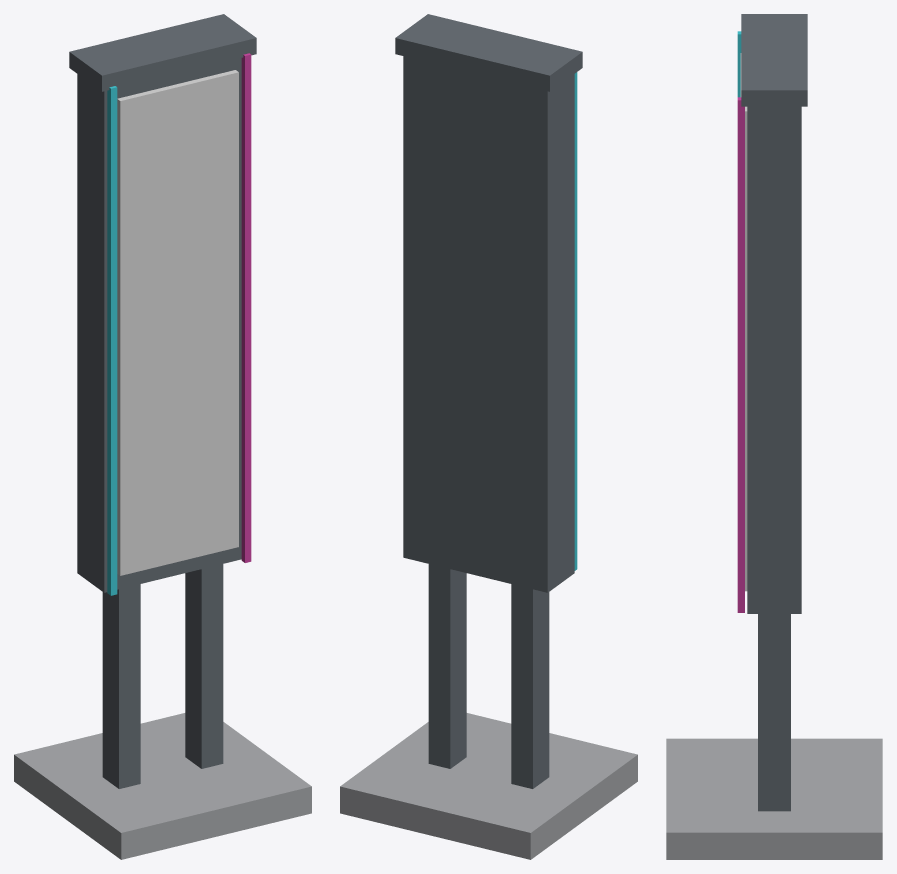
3 views of the same model, side by side, from view 1: azimuth 30°, elevation 25°; view 2: azimuth 150°, elevation 25°; view 3: azimuth 270°, elevation 25° (orthographic).
Visible parts, largest first — view 1: Visual; view 2: Visual; view 3: Visual.
Part boxes in pixels (x1,y1,x2,y2): Visual: (14,14,311,859); Visual: (340,14,637,859); Visual: (666,14,882,859).
Bounding box in the file's own units: 3.7 × 13.95 × 3.6.
